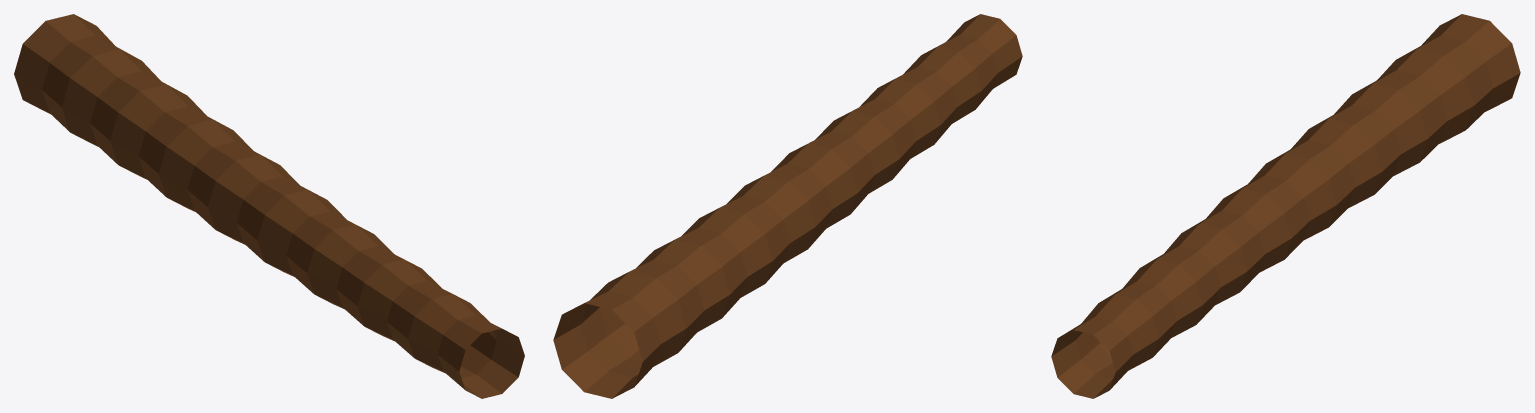
The model's file is trunk.obj.
3 renders of one model, left to right at view 1: azimuth 30°, elevation 25°; view 2: azimuth 150°, elevation 25°; view 3: azimuth 330°, elevation 25°, orthographic. The views are drawn at different scales.
Parts seen in each view (by area): view 1: trunk; view 2: trunk; view 3: trunk.
Part boxes in pixels (x1,y1,x2,y2): trunk: [14, 14, 524, 398]; trunk: [553, 14, 1022, 398]; trunk: [1051, 14, 1520, 398].
Size of the model in its own units: 0.59 by 0.5421 by 4.5.
